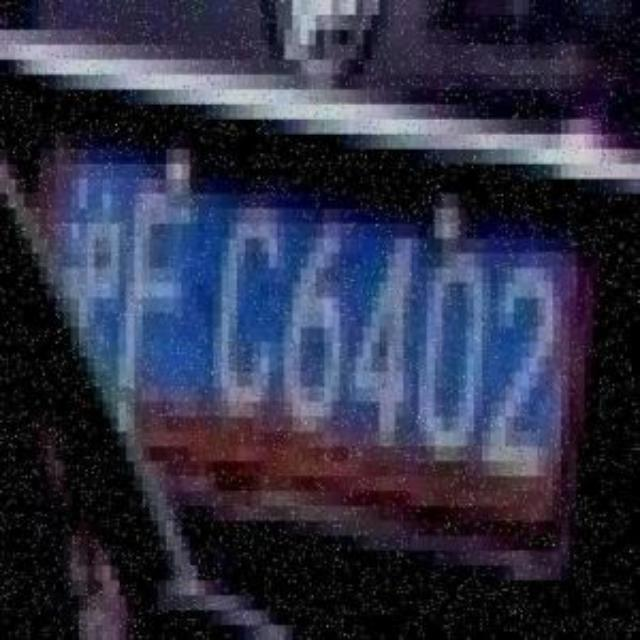license_plate: (54, 97, 580, 566)
